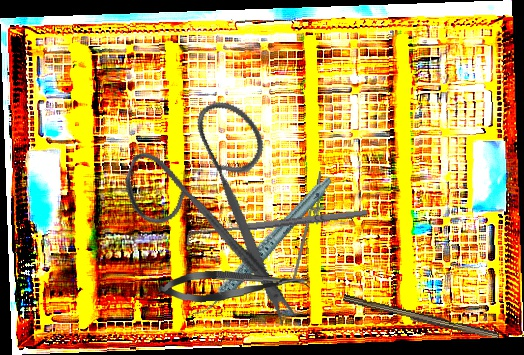Handpiece: (170, 175, 355, 319)
Hook Surgical: (184, 206, 370, 247)
Iris Scissors: (96, 78, 358, 331)
Micro Scissor: (158, 266, 311, 304)
Needle Holder: (291, 169, 331, 286)
Scalpel Handle: (341, 294, 501, 342)
